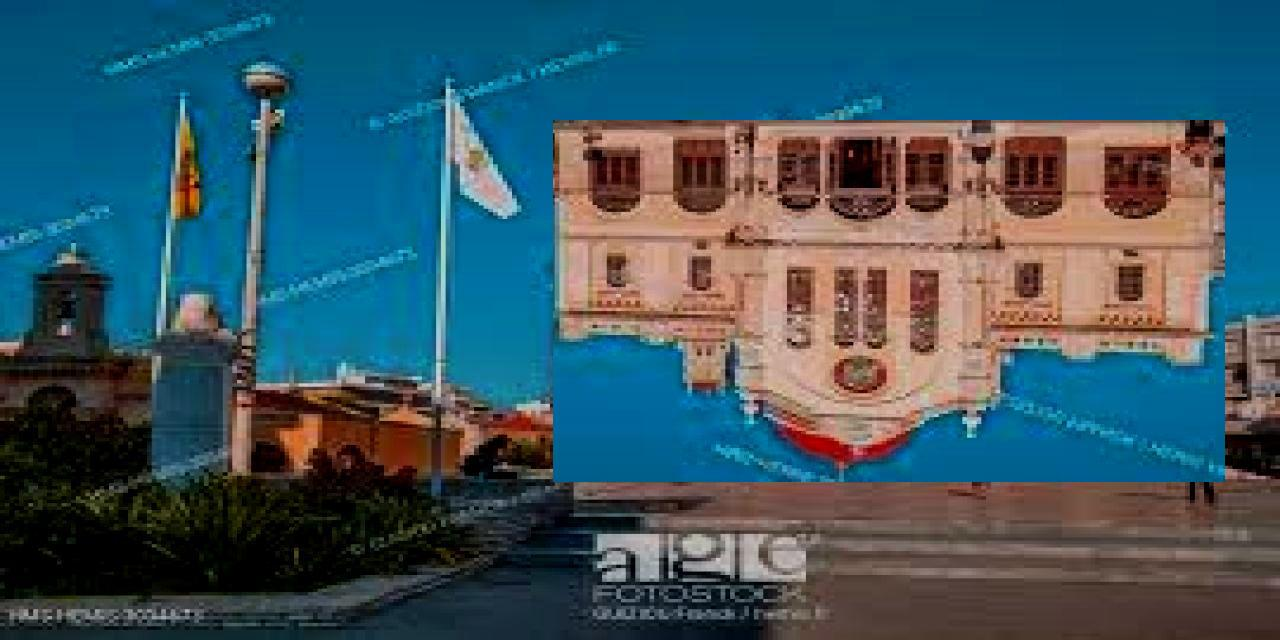Agios Minas: (554, 121, 1226, 483)
